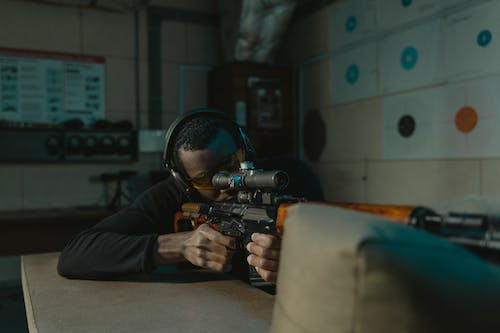gun: (172, 159, 500, 286)
